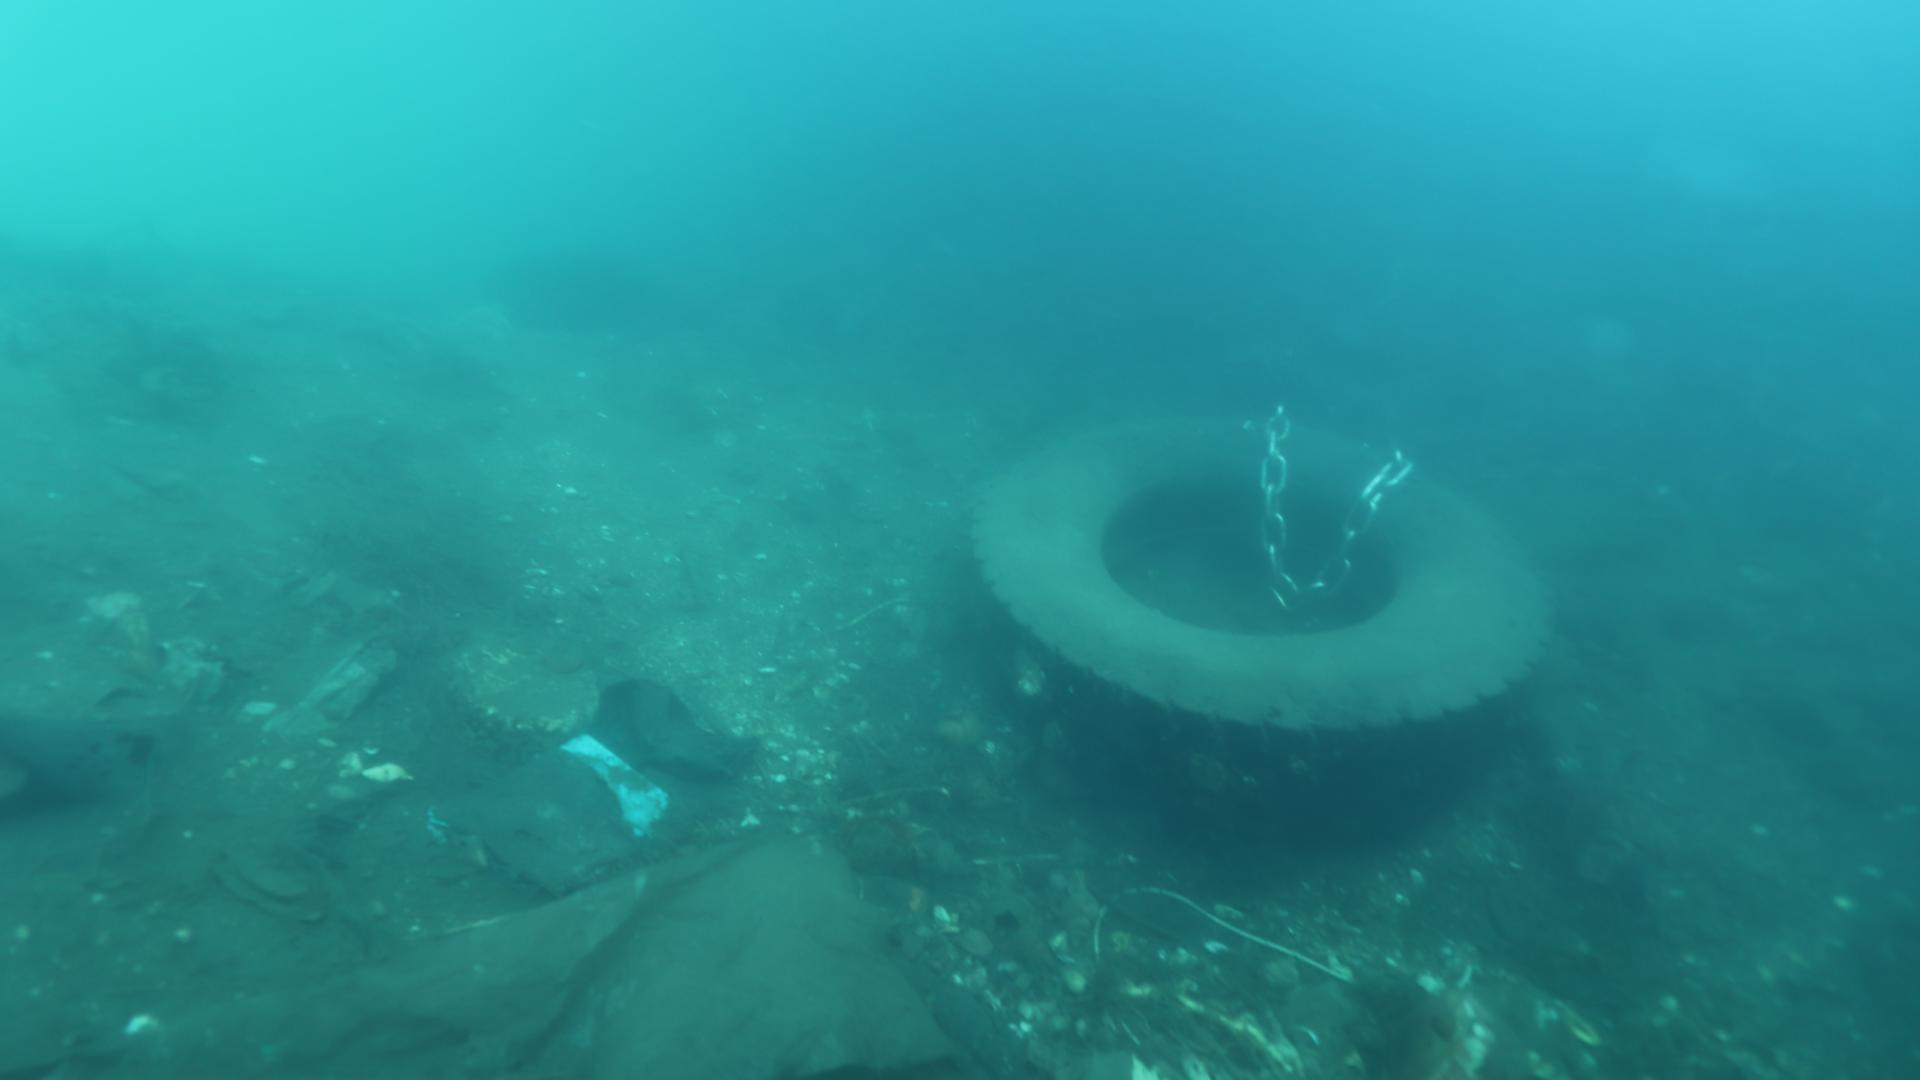tire: (968, 404, 1555, 825)
